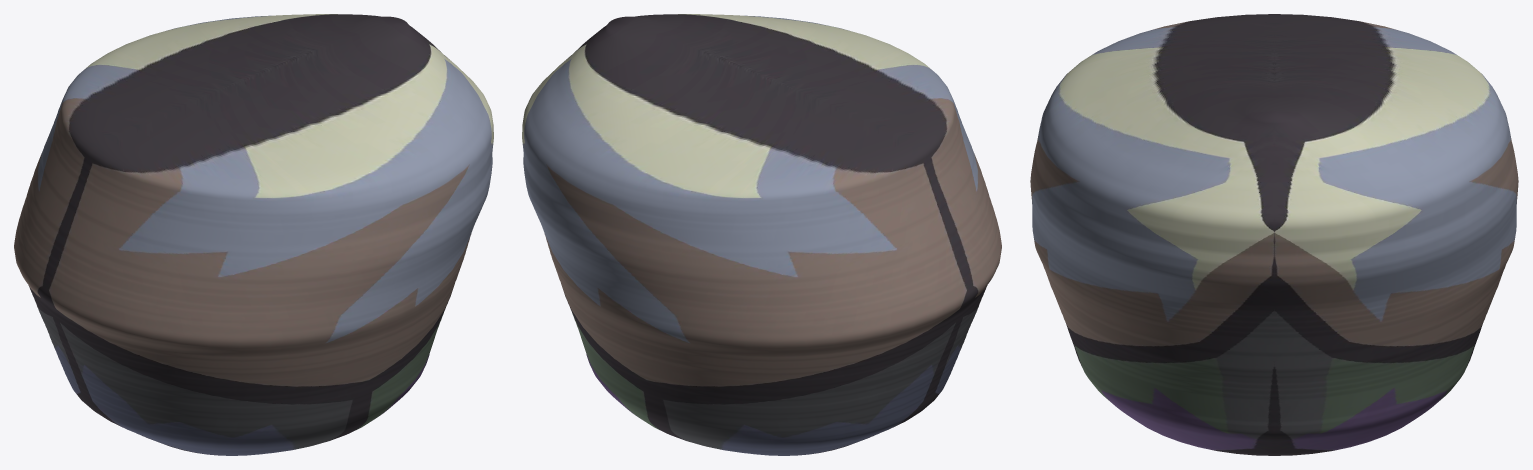
File: faceted_boulder.glb
3 views of the same model, side by side, from view 1: azimuth 30°, elevation 25°; view 2: azimuth 150°, elevation 25°; view 3: azimuth 270°, elevation 25° (orthographic). The views are drawn at different scales.
Parts seen in each view (by area): view 1: faceted_boulder; view 2: faceted_boulder; view 3: faceted_boulder.
Part boxes in pixels (x1,y1,x2,y2): faceted_boulder: (14,14,493,455); faceted_boulder: (522,14,1001,455); faceted_boulder: (1030,14,1518,455).
Size of the model in its own units: 0.9981 by 0.8705 by 0.939.
Materials: 1 (1 with a texture image).
